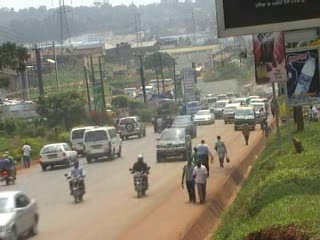Car: (1, 186, 42, 240), (37, 139, 81, 174), (114, 113, 148, 141), (169, 112, 199, 137), (190, 108, 216, 127)
Motorcycle: (63, 156, 89, 206), (128, 152, 153, 200), (0, 147, 21, 187), (153, 115, 165, 132)
